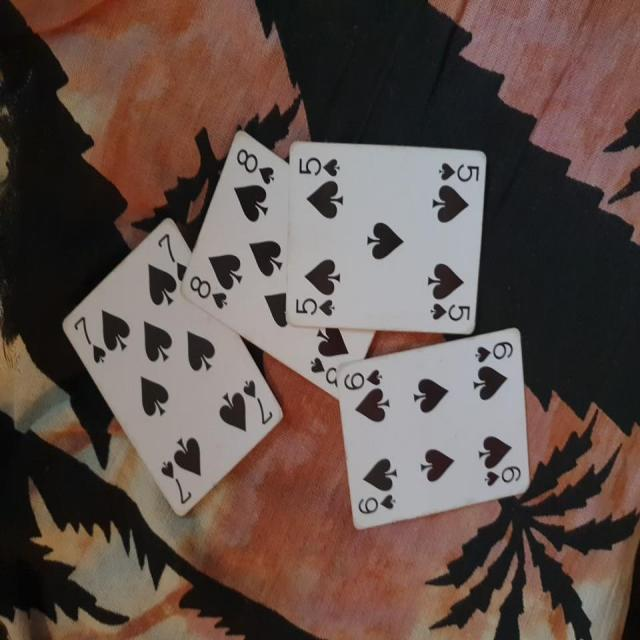5 Spades: (282, 136, 488, 336)
6 Spades: (332, 324, 543, 544)
7 Spades: (52, 213, 286, 520)
8 Spades: (180, 127, 387, 405)
